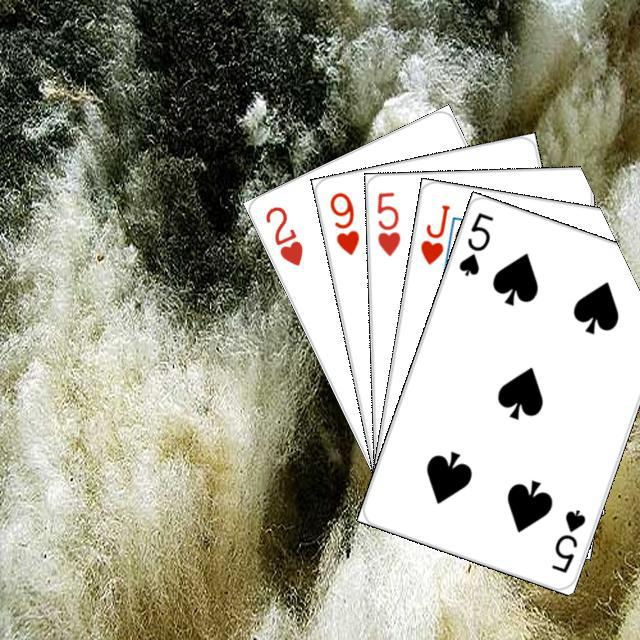2h: (260, 201, 305, 268)
5h: (372, 187, 402, 258)
5s: (453, 207, 495, 278), (546, 504, 588, 575)
9h: (324, 187, 361, 257)
Jh: (415, 199, 452, 267)
